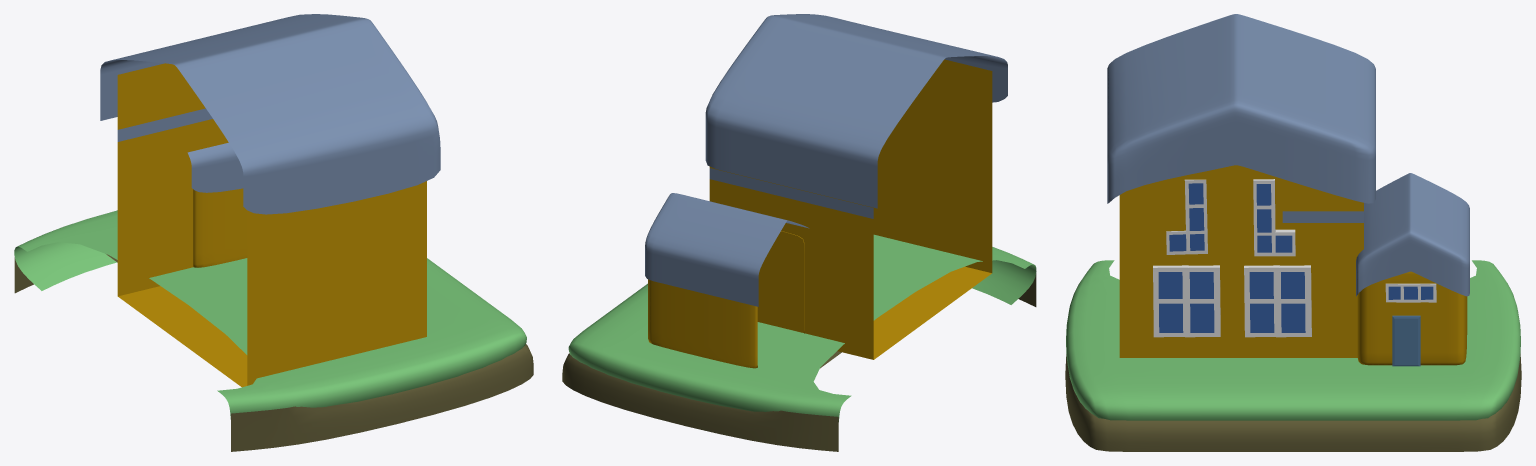
Rendered from Real estate.fbx.
3 renders of one model, left to right at view 1: azimuth 30°, elevation 25°; view 2: azimuth 150°, elevation 25°; view 3: azimuth 270°, elevation 25°, orthographic. The views are drawn at different scales.
Visible parts, largest first — view 1: pCube2, pCube4, polySurface16, polySurface17, pCube3, pCube5; view 2: pCube2, pCube4, polySurface16, pCube5, polySurface17, pCube3; view 3: pCube4, polySurface16, pCube2, polySurface17, pCube5, pCube3, pPlane7, pPlane5, polySurface1, pPlane6, polySurface3.
Part boxes in pixels (x1=…): pCube2: x1=117, y1=63, x2=426, y2=387; pCube4: x1=100, y1=14, x2=440, y2=214; polySurface16: x1=14, y1=210, x2=526, y2=419; polySurface17: x1=14, y1=254, x2=533, y2=451; pCube3: x1=193, y1=188, x2=247, y2=267; pCube5: x1=187, y1=142, x2=243, y2=192; pCube2: x1=709, y1=59, x2=992, y2=359; pCube4: x1=705, y1=14, x2=1007, y2=208; polySurface16: x1=568, y1=234, x2=1036, y2=421; pCube5: x1=645, y1=193, x2=809, y2=306; polySurface17: x1=562, y1=273, x2=1036, y2=451; pCube3: x1=648, y1=231, x2=804, y2=368; pCube4: x1=1107, y1=14, x2=1375, y2=203; polySurface16: x1=1066, y1=260, x2=1520, y2=420; pCube2: x1=1119, y1=165, x2=1363, y2=357; polySurface17: x1=1065, y1=354, x2=1521, y2=451; pCube5: x1=1356, y1=173, x2=1469, y2=296; pCube3: x1=1357, y1=271, x2=1467, y2=365; pPlane7: x1=1244, y1=265, x2=1311, y2=337; pPlane5: x1=1153, y1=265, x2=1220, y2=337; polySurface1: x1=1166, y1=179, x2=1295, y2=256; pPlane6: x1=1392, y1=315, x2=1420, y2=366; polySurface3: x1=1385, y1=283, x2=1436, y2=302.
Bounding box in the file's own units: 6.93 × 6.9 × 9.33.
